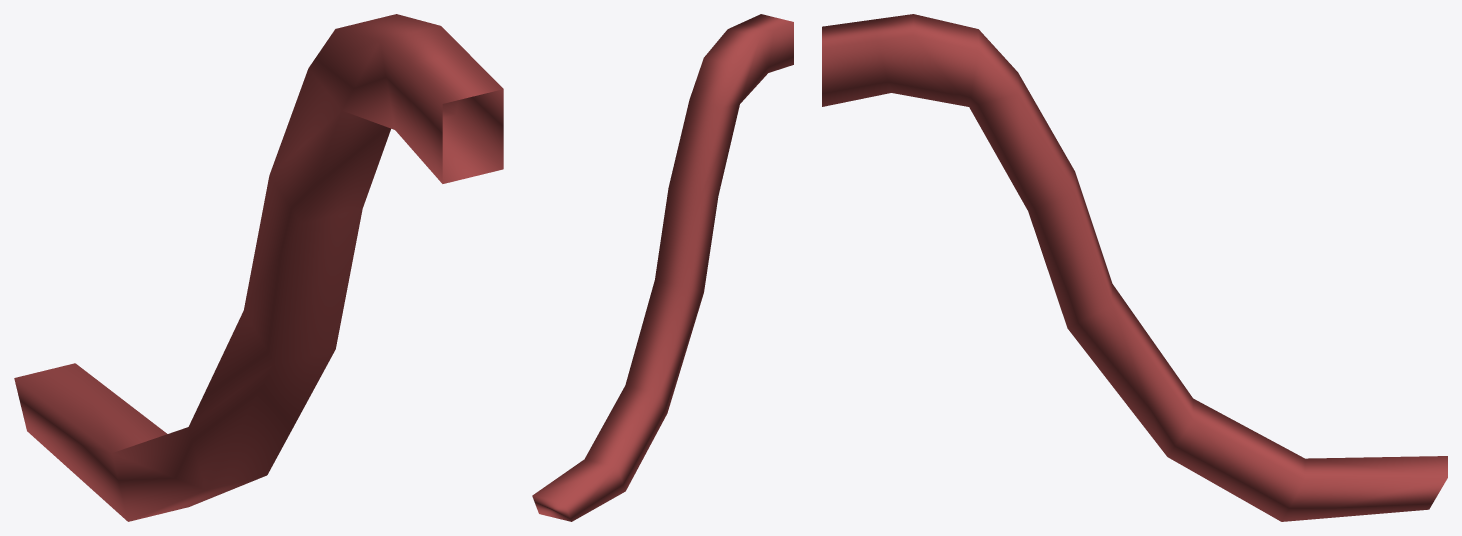
The model's file is StreetLightStand_1.fbx.
3 views of the same model, side by side, from view 1: azimuth 30°, elevation 25°; view 2: azimuth 150°, elevation 25°; view 3: azimuth 270°, elevation 25° (orthographic). The views are drawn at different scales.
Parts seen in each view (by area): view 1: StreetLightStand_1; view 2: StreetLightStand_1; view 3: StreetLightStand_1.
Boxes of the visible parts, x1,y1,x2,y2 form: StreetLightStand_1: (14,14,503,521); StreetLightStand_1: (532,14,793,521); StreetLightStand_1: (822,14,1447,521).
Size of the model in its own units: 4.81 by 49.98 by 58.32.
